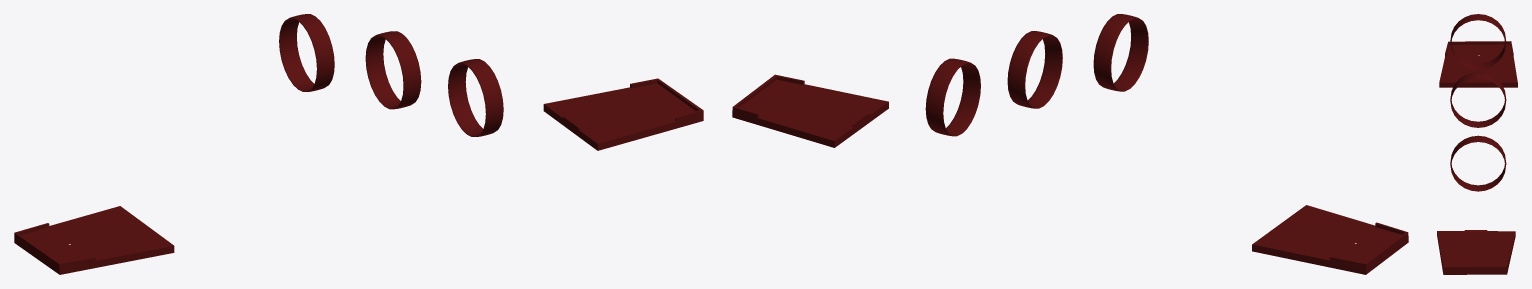
File: Map#4.fbx
The picture shows the model from 3 angles, left to right: view 1: azimuth 30°, elevation 25°; view 2: azimuth 150°, elevation 25°; view 3: azimuth 270°, elevation 25°; orthographic projection. The views are drawn at different scales.
Visible parts, largest first — view 1: End_Point_Platform, Starting_Platform, Ring_2, Ring_1, Ring_2__1_, End_Point_Wall, Start_Point_Wall; view 2: End_Point_Platform, Starting_Platform, Ring_2__1_, Ring_2, Ring_1, End_Point_Wall, Start_Point_Wall; view 3: End_Point_Platform, Starting_Platform, Ring_2__1_, Ring_2, Ring_1, Start_Point_Wall, End_Point_Wall.
Boxes of the visible parts, box(x1,y1,x2,y2) form: End_Point_Platform: box(543, 83, 703, 150); Starting_Platform: box(14, 206, 174, 274); Ring_2: box(365, 31, 421, 109); Ring_1: box(448, 59, 503, 136); Ring_2__1_: box(279, 14, 334, 91); End_Point_Wall: box(14, 223, 95, 267); Start_Point_Wall: box(630, 78, 703, 121); End_Point_Platform: box(732, 79, 888, 147); Starting_Platform: box(1252, 205, 1408, 274); Ring_2__1_: box(1093, 14, 1148, 91); Ring_2: box(1007, 31, 1062, 108); Ring_1: box(925, 58, 980, 136); End_Point_Wall: box(1329, 222, 1408, 267); Start_Point_Wall: box(732, 74, 804, 117); End_Point_Platform: box(1437, 231, 1515, 274); Starting_Platform: box(1439, 44, 1517, 87); Ring_2__1_: box(1450, 14, 1506, 69); Ring_2: box(1450, 72, 1506, 127); Ring_1: box(1450, 135, 1506, 191); Start_Point_Wall: box(1441, 257, 1509, 269); End_Point_Wall: box(1445, 41, 1513, 56).
Size of the model in its own units: 9588 by 2512 by 1445.
